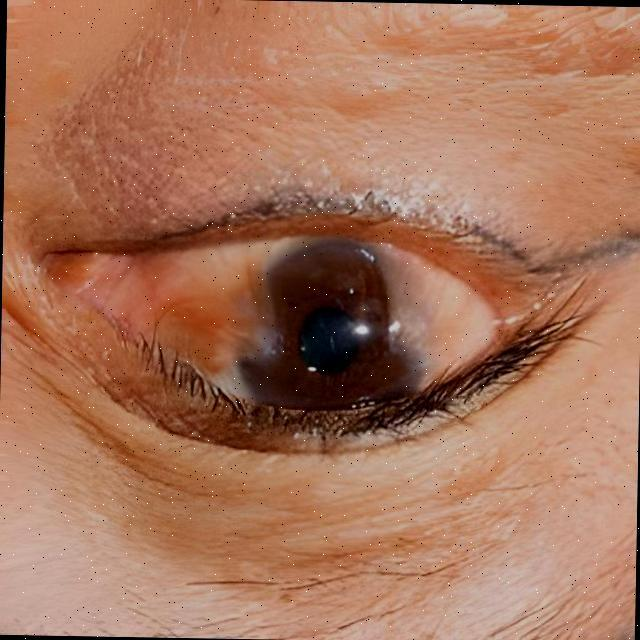Pterygium: (70, 224, 301, 398), (366, 248, 534, 396)
